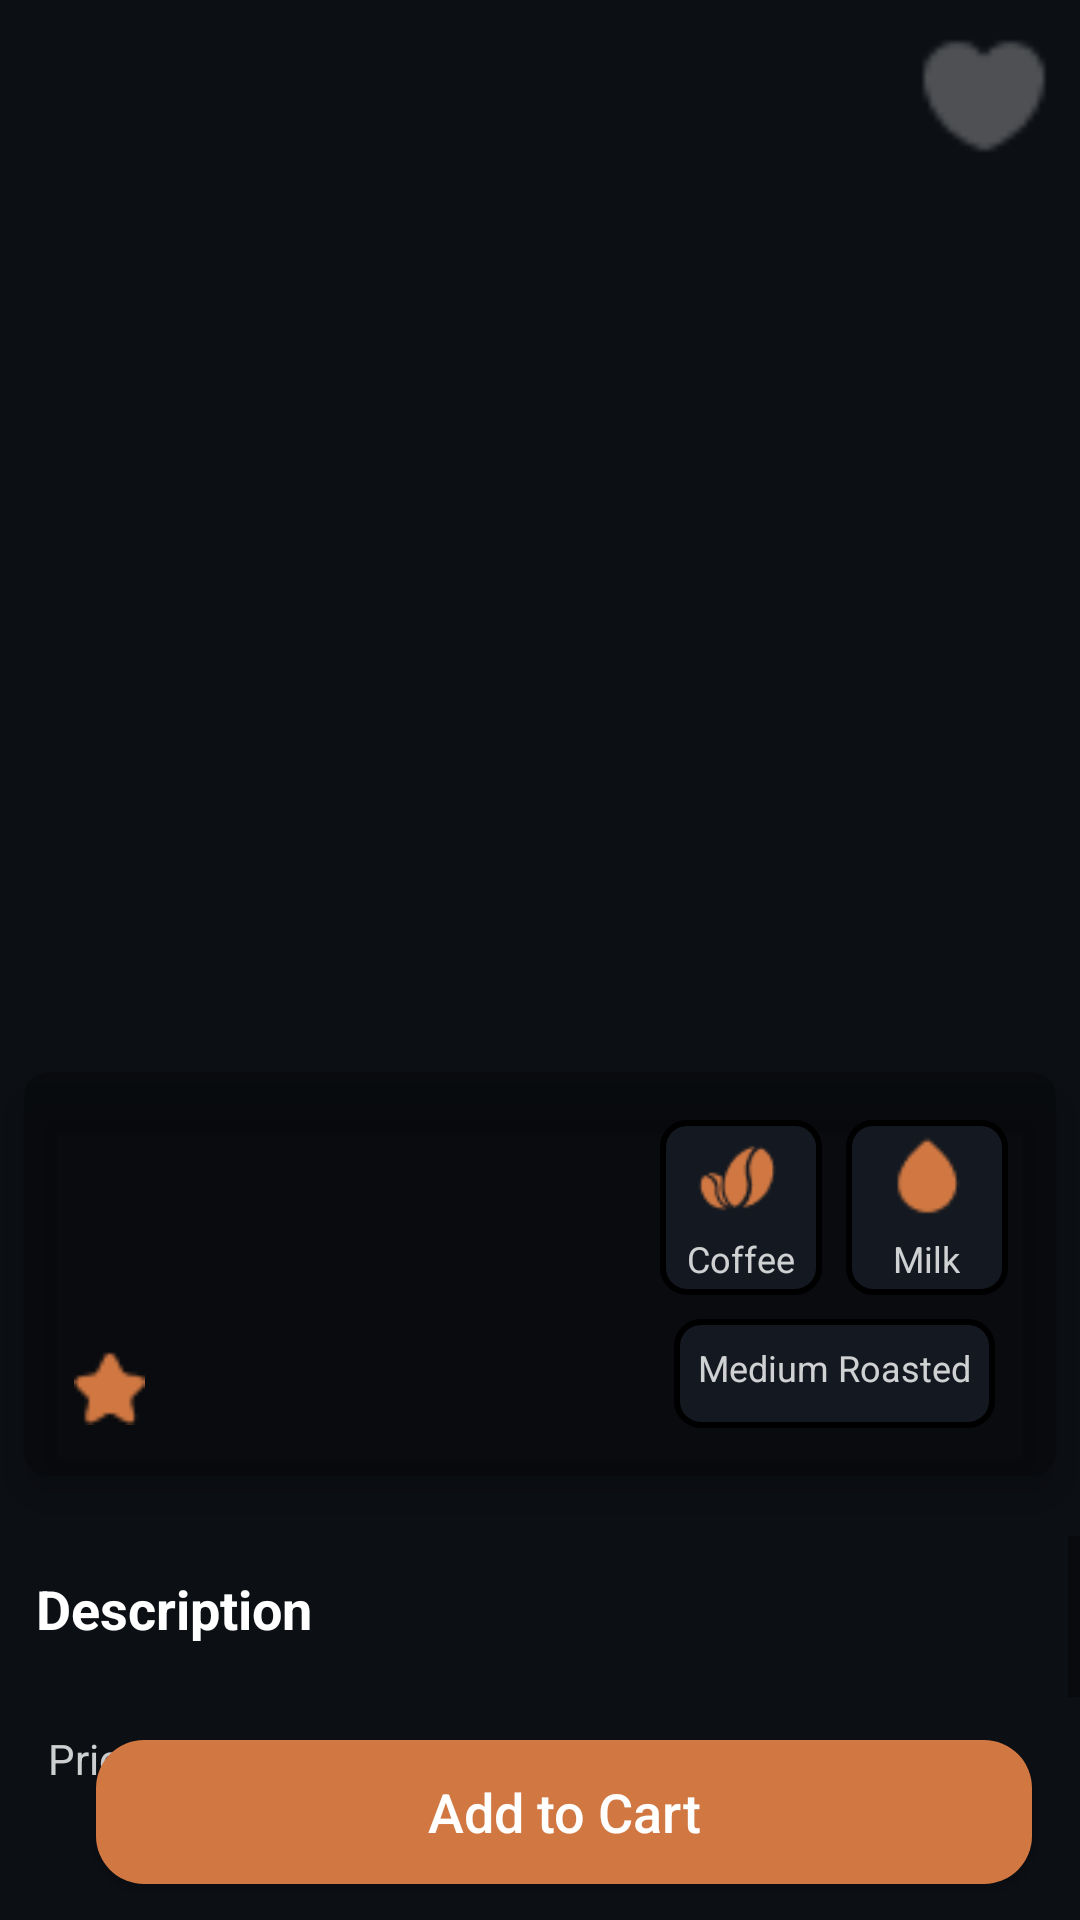

Icon click points for this 1080 × 1920 phone screenshot, format point (x, y):
bean: point (737, 1178)
drop: point (927, 1176)
heart: point (984, 96)
star: point (109, 1388)
